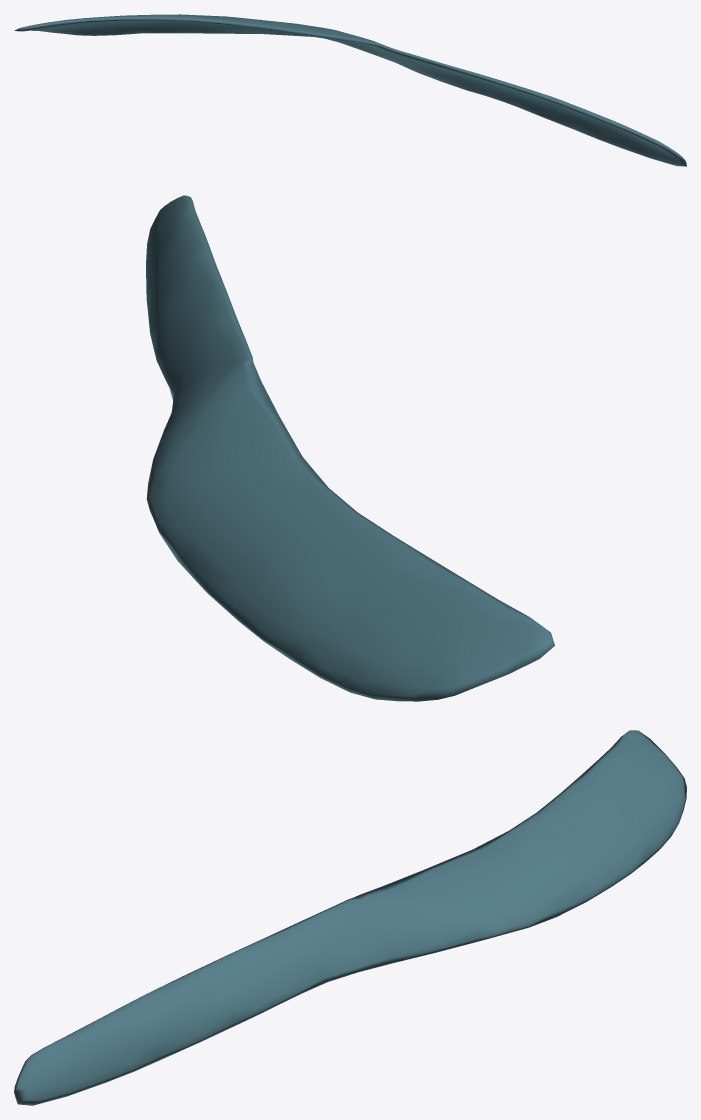
Rendered from Ascending_part_of_trapezius_muscle-Clavicular_insertion.r_Cone..glb.
The picture shows the model from 3 angles, top to bottom: view 1: azimuth 30°, elevation 25°; view 2: azimuth 150°, elevation 25°; view 3: azimuth 270°, elevation 25°; orthographic projection. The views are drawn at different scales.
Parts seen in each view (by area): view 1: Ascending_part_of_trapezius_muscle-Clavicular_insertion.r_Co; view 2: Ascending_part_of_trapezius_muscle-Clavicular_insertion.r_Co; view 3: Ascending_part_of_trapezius_muscle-Clavicular_insertion.r_Co.
Boxes of the visible parts, x1=… form: Ascending_part_of_trapezius_muscle-Clavicular_insertion.r_Co: x1=14, y1=14, x2=686, y2=166; Ascending_part_of_trapezius_muscle-Clavicular_insertion.r_Co: x1=146, y1=195, x2=554, y2=701; Ascending_part_of_trapezius_muscle-Clavicular_insertion.r_Co: x1=14, y1=730, x2=686, y2=1105.
Size of the model in its own units: 0.049 by 0.00863 by 0.0496.
